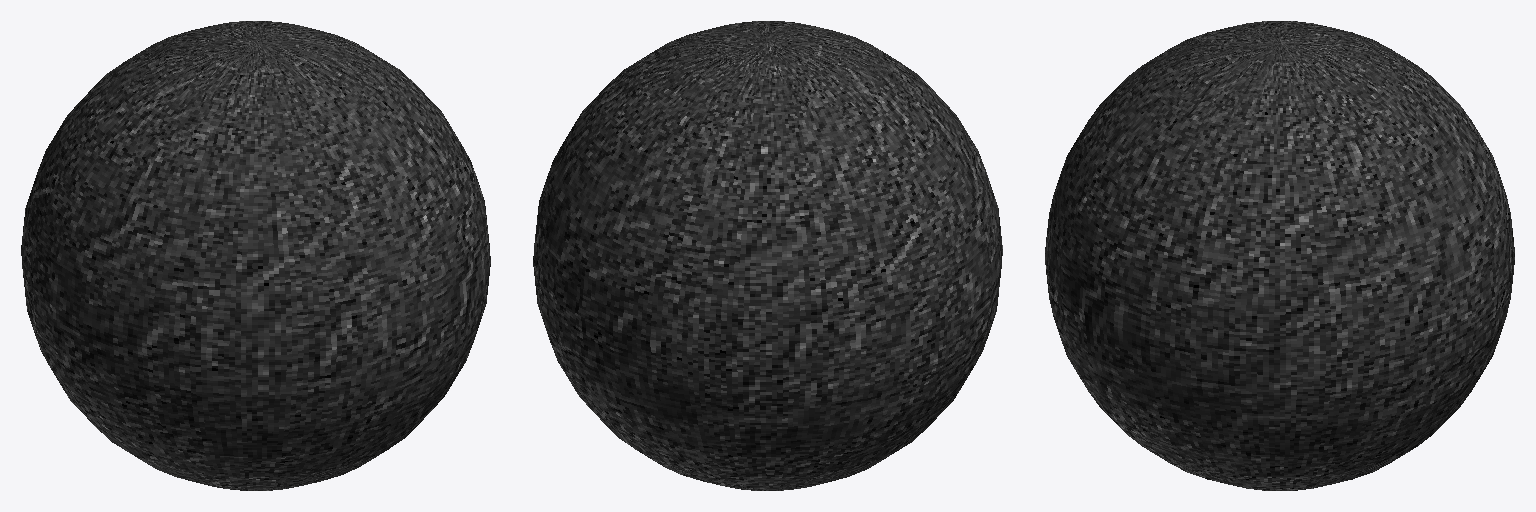
The picture shows the model from 3 angles: view 1: azimuth 30°, elevation 25°; view 2: azimuth 150°, elevation 25°; view 3: azimuth 270°, elevation 25°; orthographic projection.
Parts seen in each view (by area): view 1: Sphere; view 2: Sphere; view 3: Sphere.
Part boxes in pixels (x1,y1,x2,y2): Sphere: (21,21,490,490); Sphere: (533,21,1002,490); Sphere: (1045,21,1514,490).
Size of the model in its own units: 2 by 2 by 2.
Materials: 1 (1 with a texture image).